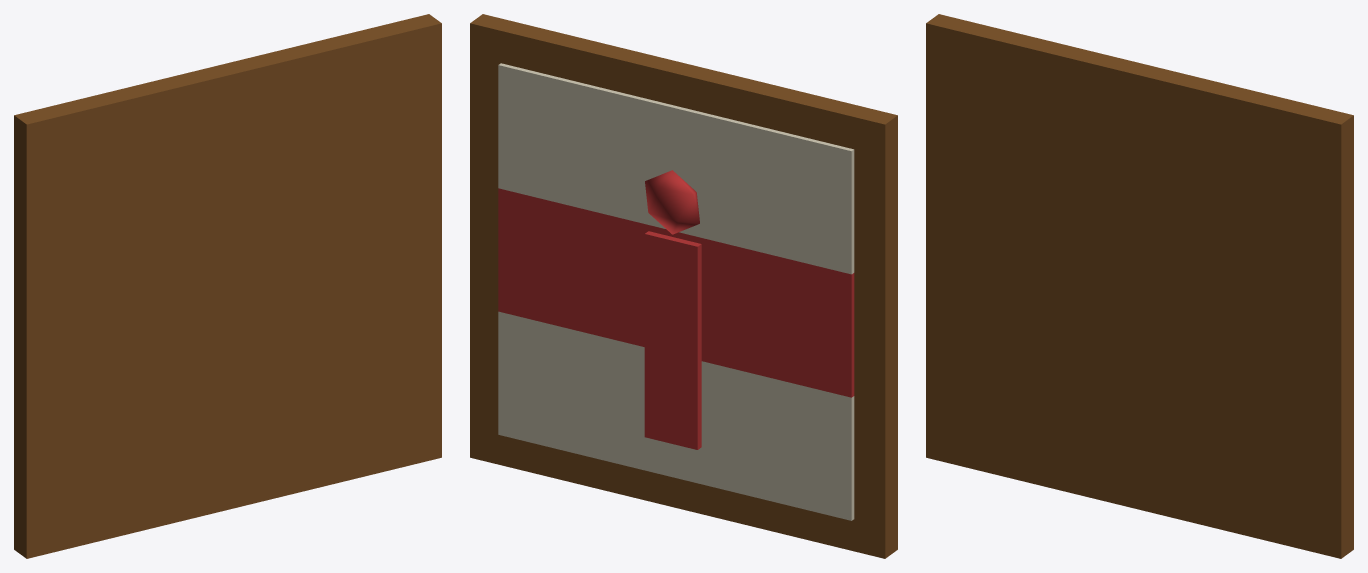
File: waldo_v0.glb
The picture shows the model from 3 angles, left to right: view 1: azimuth 30°, elevation 25°; view 2: azimuth 150°, elevation 25°; view 3: azimuth 330°, elevation 25°; orthographic projection.
Visible parts, largest first — view 1: waldo_v0; view 2: waldo_v0; view 3: waldo_v0.
Boxes of the visible parts, x1,y1,x2,y2 form: waldo_v0: (14, 14, 441, 558); waldo_v0: (470, 14, 897, 558); waldo_v0: (926, 14, 1353, 558).
Bounding box in the file's own units: 0.94 × 0.94 × 0.0819.
